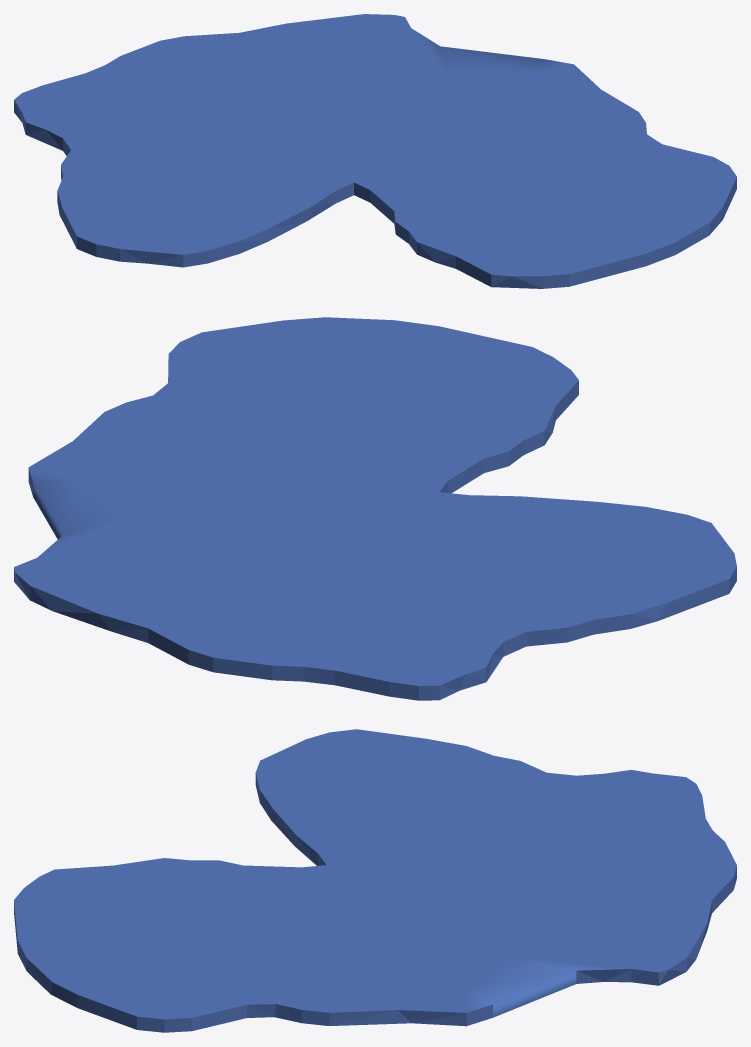
The model's file is SP_Ground02.fbx.
3 renders of one model, top to bottom at view 1: azimuth 30°, elevation 25°; view 2: azimuth 150°, elevation 25°; view 3: azimuth 270°, elevation 25°, orthographic. The views are drawn at different scales.
Parts seen in each view (by area): view 1: SP_Ground02; view 2: SP_Ground02; view 3: SP_Ground02.
Boxes of the visible parts, x1,y1,x2,y2 form: SP_Ground02: (14,14,736,288); SP_Ground02: (14,317,736,700); SP_Ground02: (14,729,736,1032).
Size of the model in its own units: 900 by 19.33 by 948.
